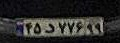character: (43, 19, 56, 37), (56, 19, 67, 39), (93, 18, 103, 37), (33, 19, 43, 37), (66, 19, 76, 37), (74, 18, 84, 36), (23, 20, 33, 36), (85, 21, 95, 36)
